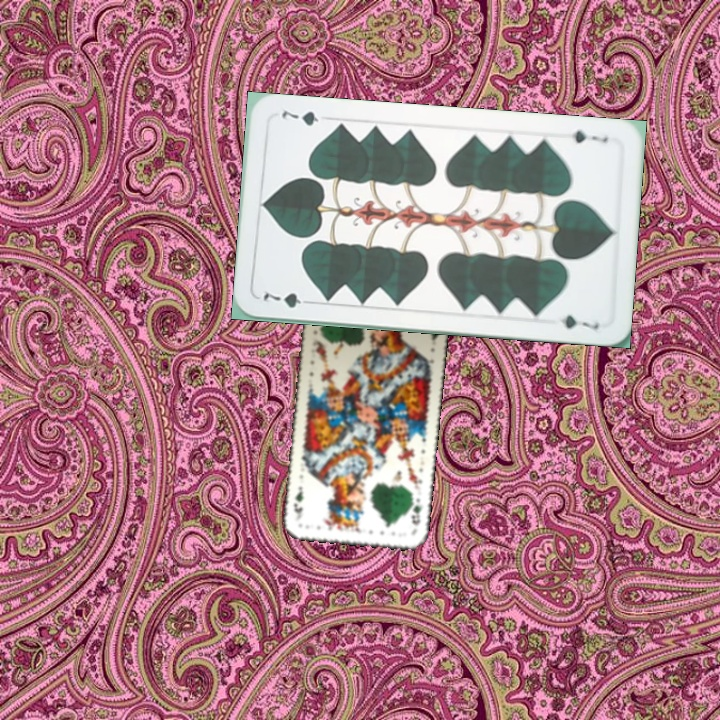G7: (259, 288, 316, 310), (568, 126, 611, 146)
GK: (407, 494, 424, 528)
